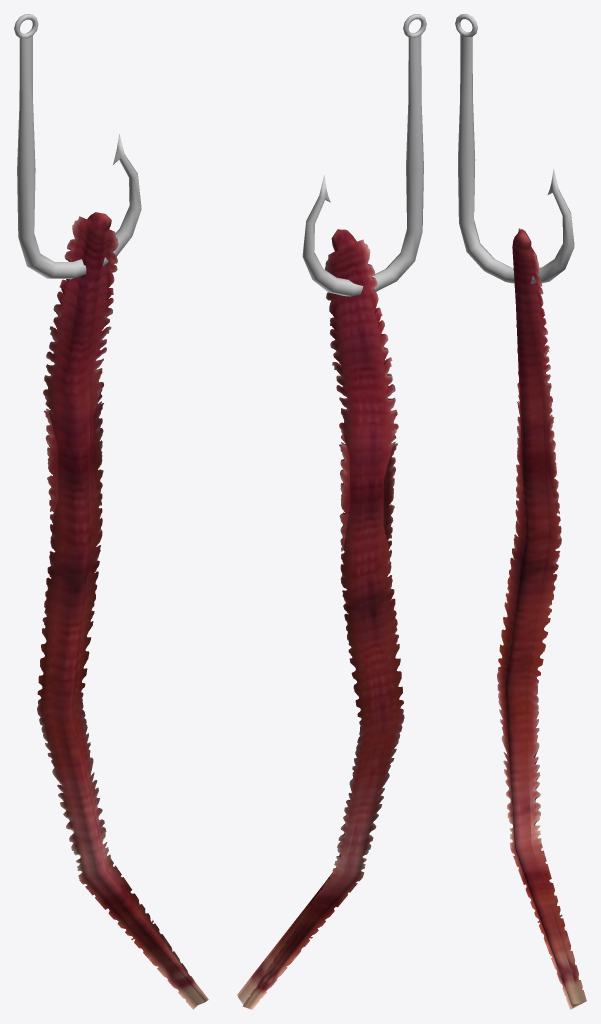
Rendered from Bait_RedWorm.fbx.
The picture shows the model from 3 angles, left to right: view 1: azimuth 30°, elevation 25°; view 2: azimuth 210°, elevation 25°; view 3: azimuth 330°, elevation 25°; orthographic projection. The views are drawn at different scales.
Parts seen in each view (by area): view 1: Bait_RedClamWorm; view 2: Bait_RedClamWorm; view 3: Bait_RedClamWorm.
Part boxes in pixels (bbox=[...]): Bait_RedClamWorm: bbox=[14, 14, 208, 1009]; Bait_RedClamWorm: bbox=[237, 14, 426, 1009]; Bait_RedClamWorm: bbox=[455, 14, 586, 1009].
Size of the model in its own units: 0.2743 by 1.61 by 0.1574.
